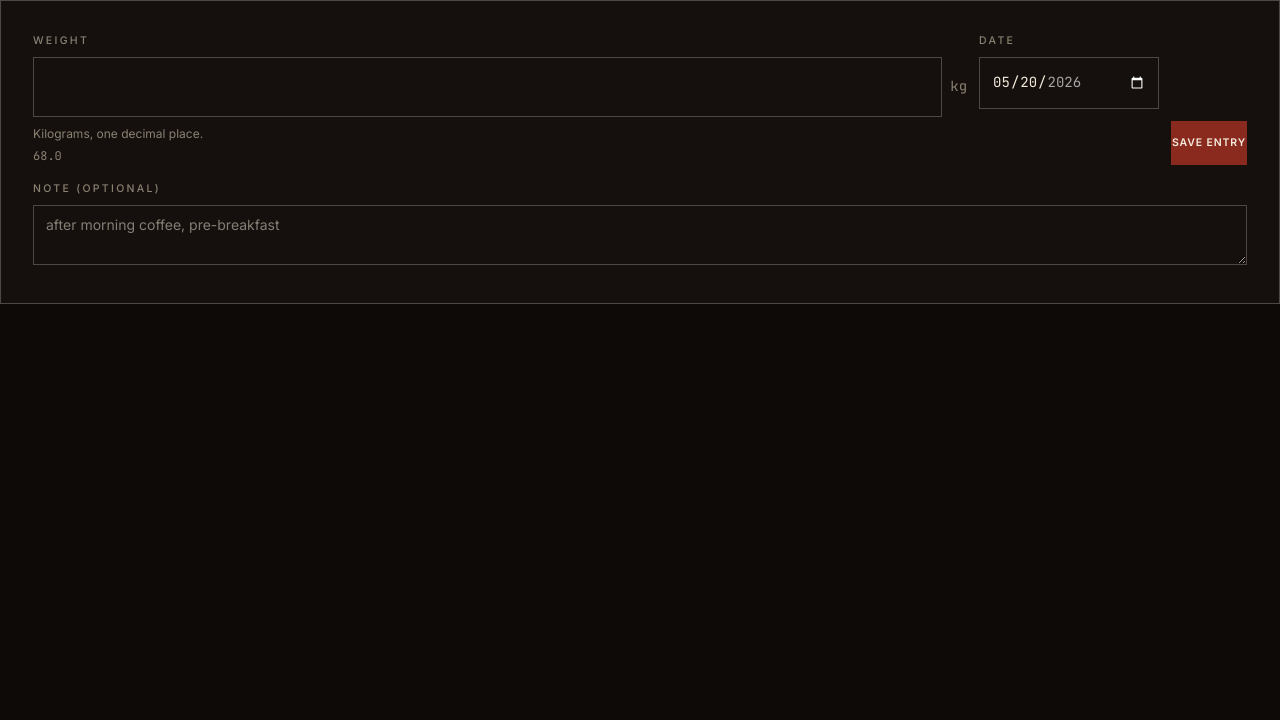
Test: F3 — WeightQuickAdd optimistic + rollback integration › server 500 → rollback toast mounts with correct ARIA semantics + previous weight
Type "70.0" into the number field with test id "weight-quick-add-input" at [488, 87], box [33,57,942,117]
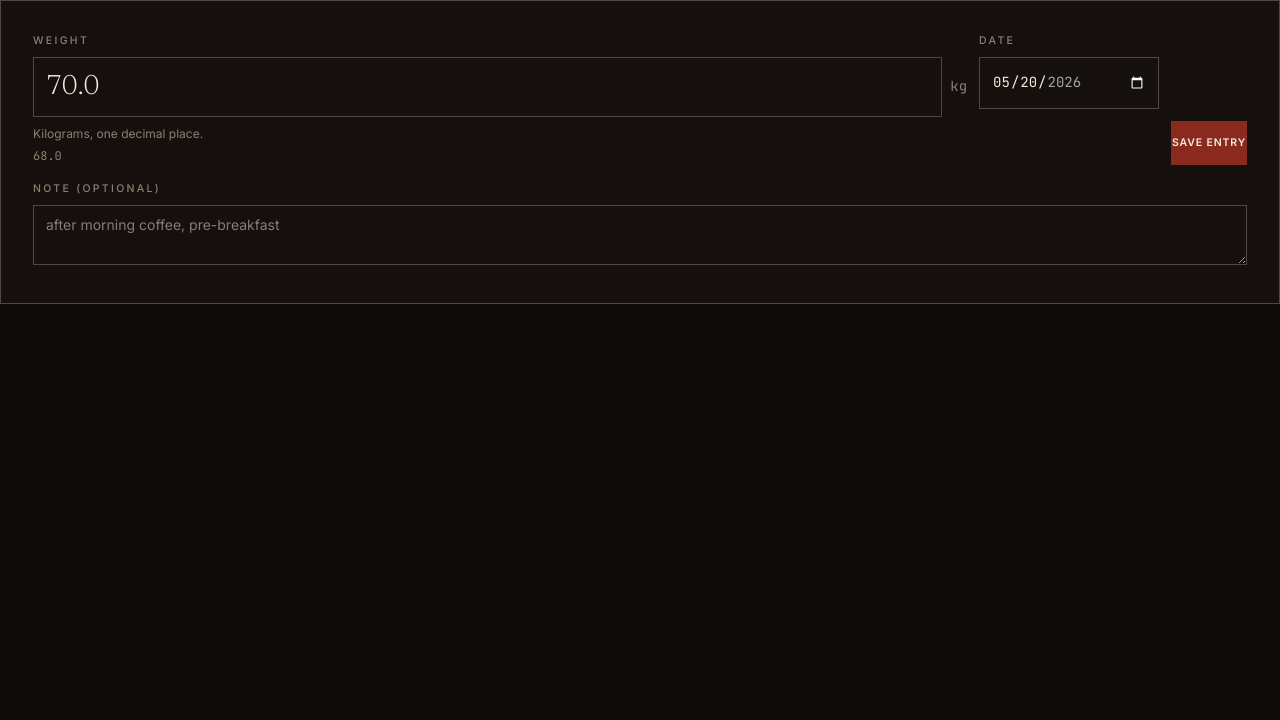
Submit the form with test id "weight-quick-add-submit", box [33,33,1247,270]
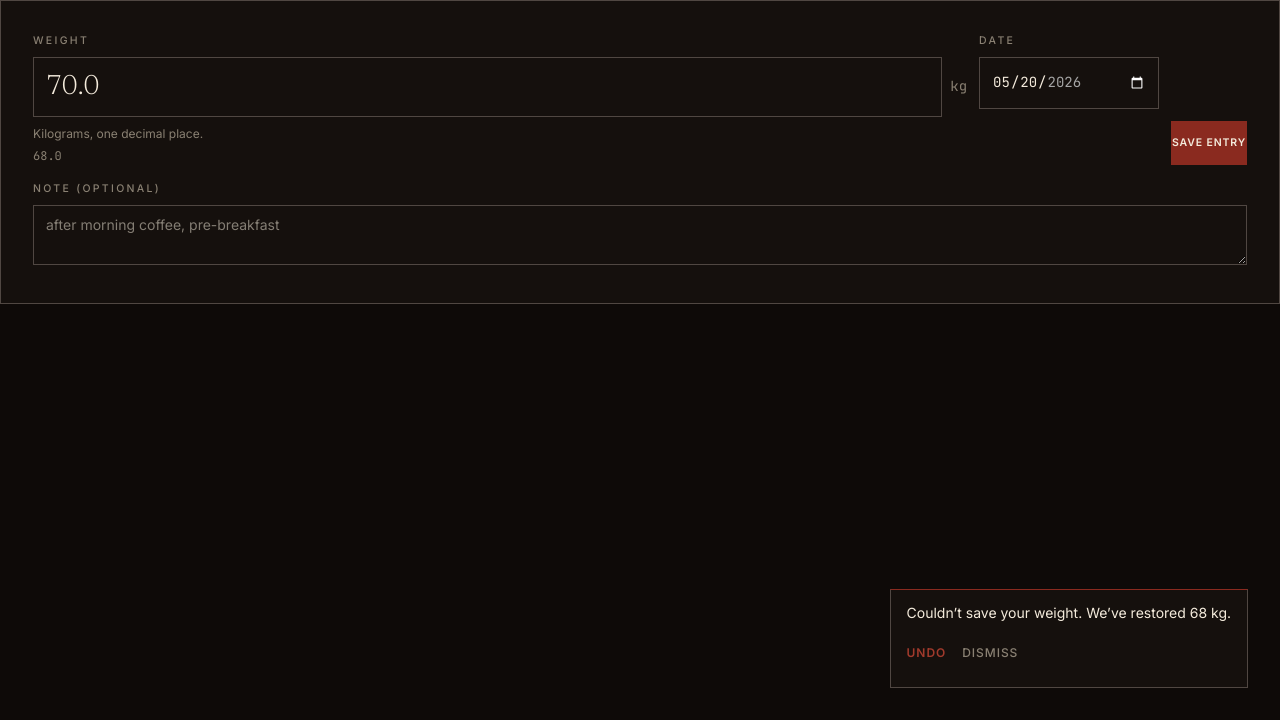
Expected: the message "Couldn’t save your weight. We’ve restored 68 kg. UNDO DISMISS" is shown, [890,589,1248,688]
Expected: the message with test id "weight-rollback-toast" shows "68", [906,604,1231,621]
